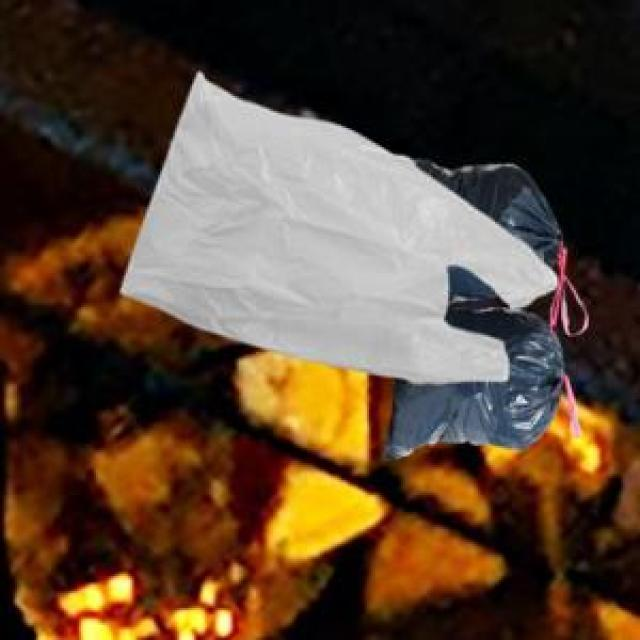miscellaneous trash: (380, 156, 575, 454)
